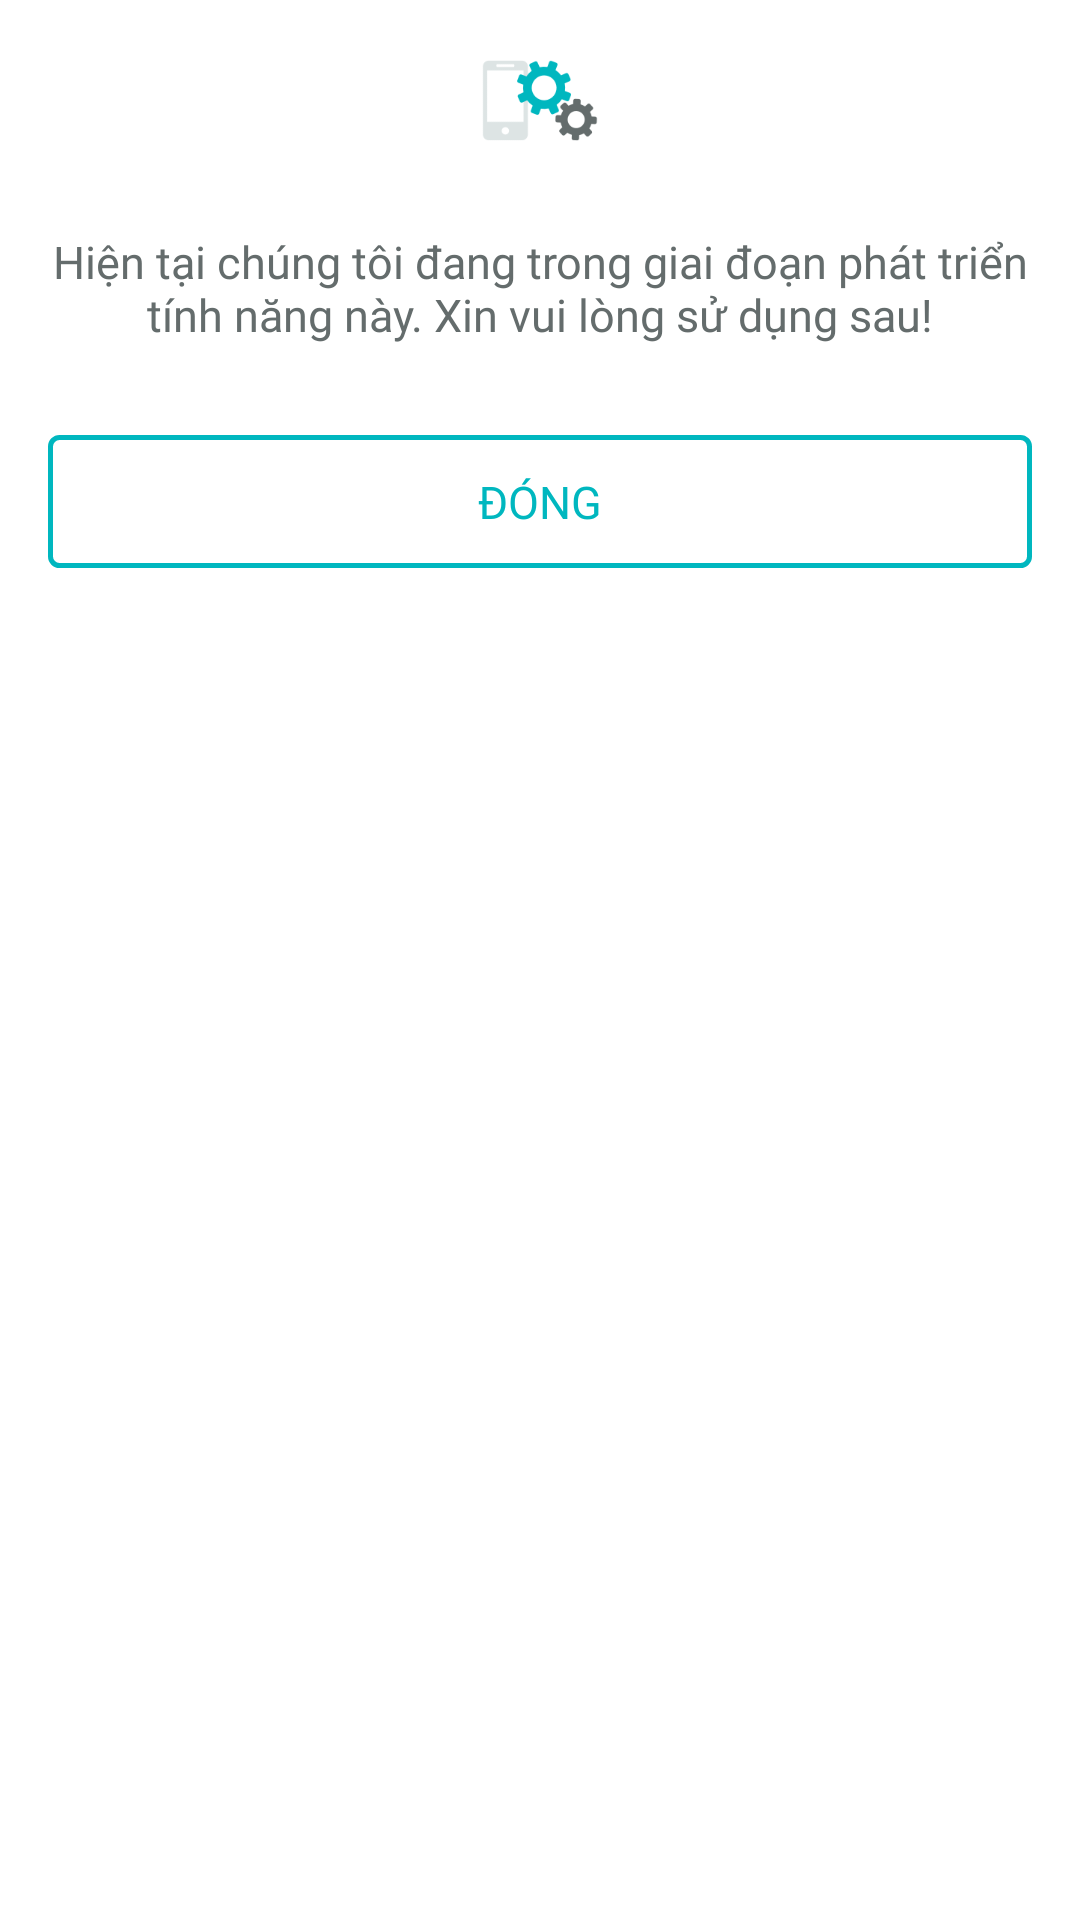

Icons on this 1080px×1920px Android screen, each with its box as (x1, y1, x2, y2):
system update: (483, 60, 597, 141)
